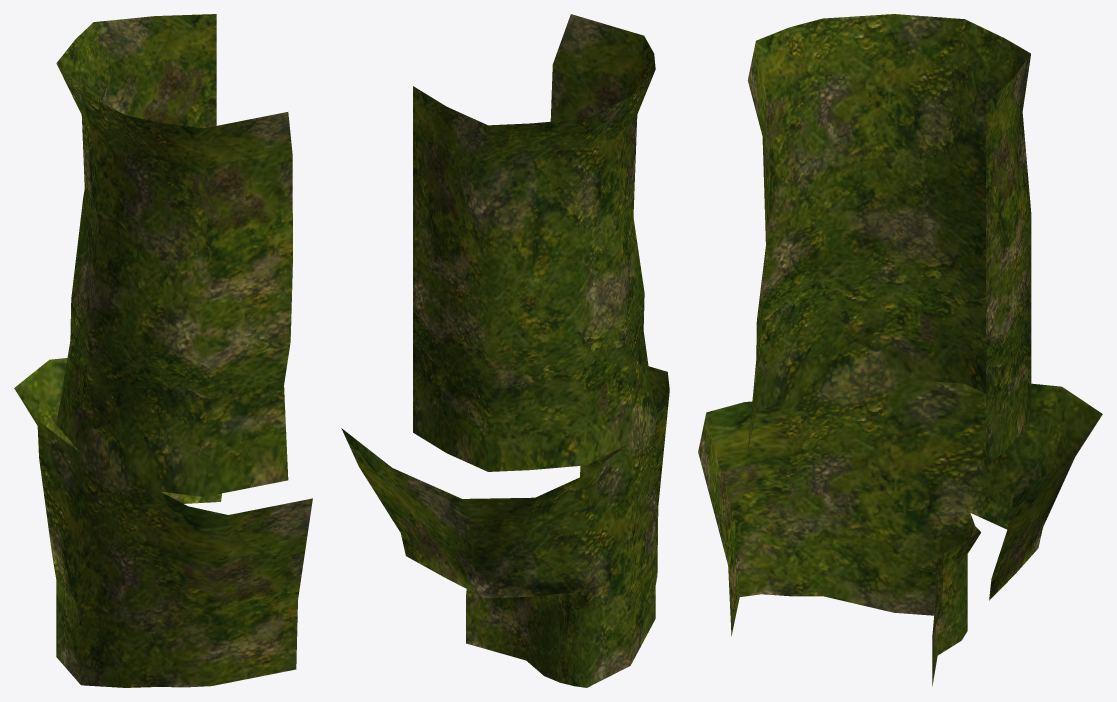
File: OVERHILL_A_01_CLIMB_PILLAR_001.fbx
The picture shows the model from 3 angles, left to right: view 1: azimuth 30°, elevation 25°; view 2: azimuth 150°, elevation 25°; view 3: azimuth 270°, elevation 25°; orthographic projection. The views are drawn at different scales.
Visible parts, largest first — view 1: OVERHILL_A_01_CLIMB_PILLAR_001; view 2: OVERHILL_A_01_CLIMB_PILLAR_001; view 3: OVERHILL_A_01_CLIMB_PILLAR_001.
Part boxes in pixels (left/top/right/bottom): OVERHILL_A_01_CLIMB_PILLAR_001: left=14, top=14, right=312, bottom=687; OVERHILL_A_01_CLIMB_PILLAR_001: left=341, top=14, right=669, bottom=687; OVERHILL_A_01_CLIMB_PILLAR_001: left=698, top=14, right=1102, bottom=686.
Bounding box in the file's own units: 30061 × 70268 × 43049.
Materials: 1 (1 with a texture image).
